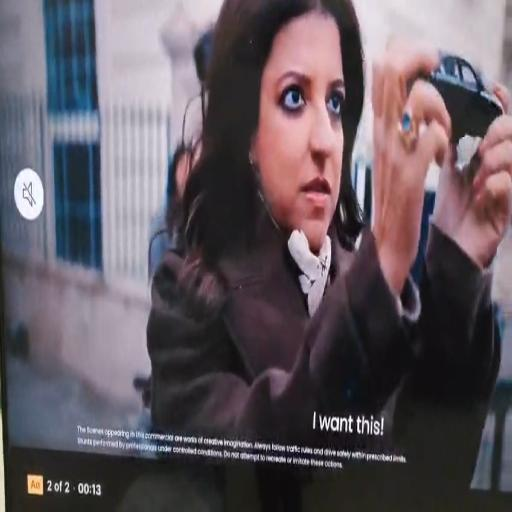ad label: (27, 473, 44, 497)
